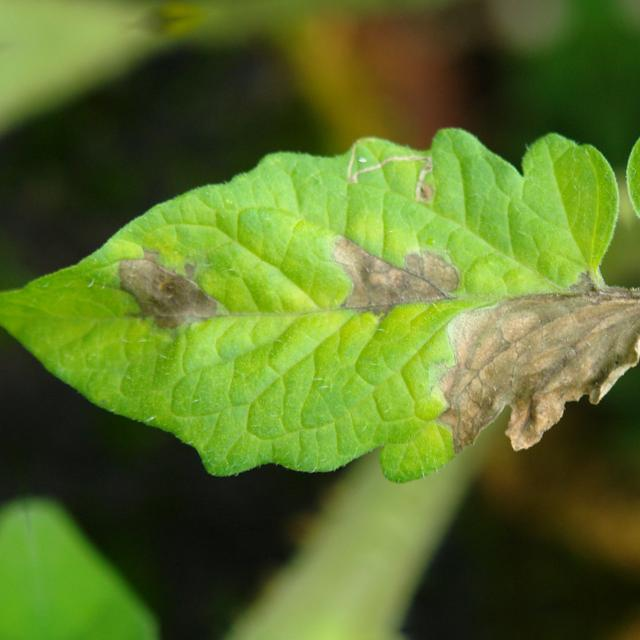Tomato leaf late blight: (0, 87, 640, 549)
